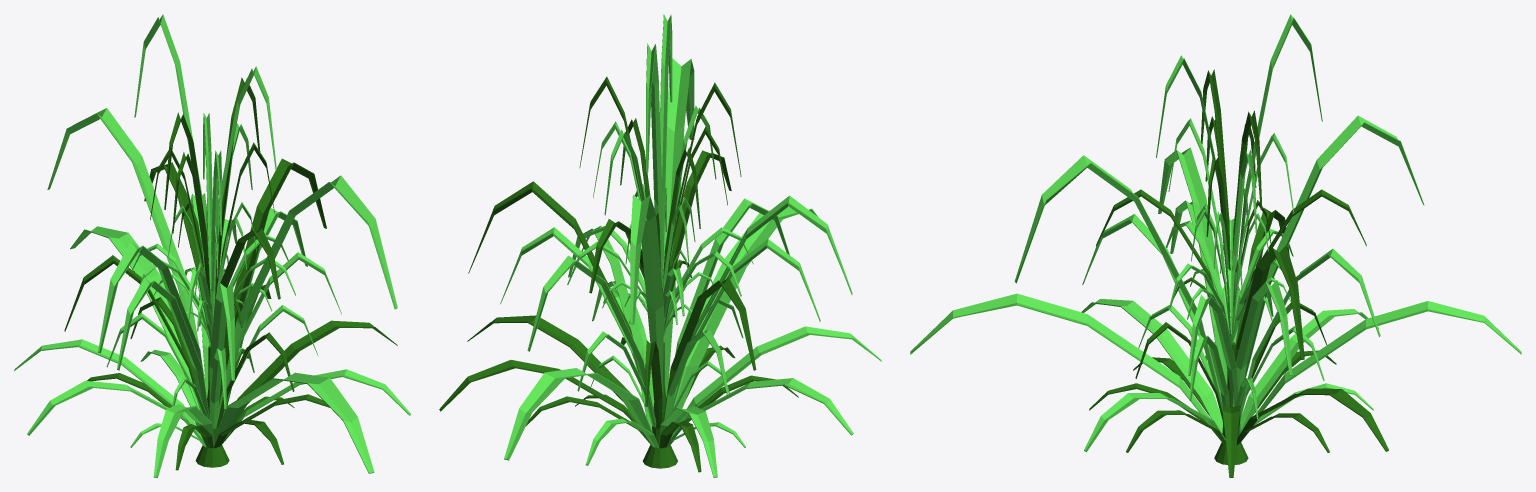
The model's file is buisson1.fbx.
The picture shows the model from 3 angles, left to right: view 1: azimuth 30°, elevation 25°; view 2: azimuth 150°, elevation 25°; view 3: azimuth 270°, elevation 25°; orthographic projection. The views are drawn at different scales.
Visible parts, largest first — view 1: buisson; view 2: buisson; view 3: buisson.
Part boxes in pixels (x1,y1,x2,y2): buisson: (14, 14, 410, 477); buisson: (439, 14, 881, 477); buisson: (910, 14, 1521, 477).
Bounding box in the file's own units: 3275 × 3637 × 4665.
